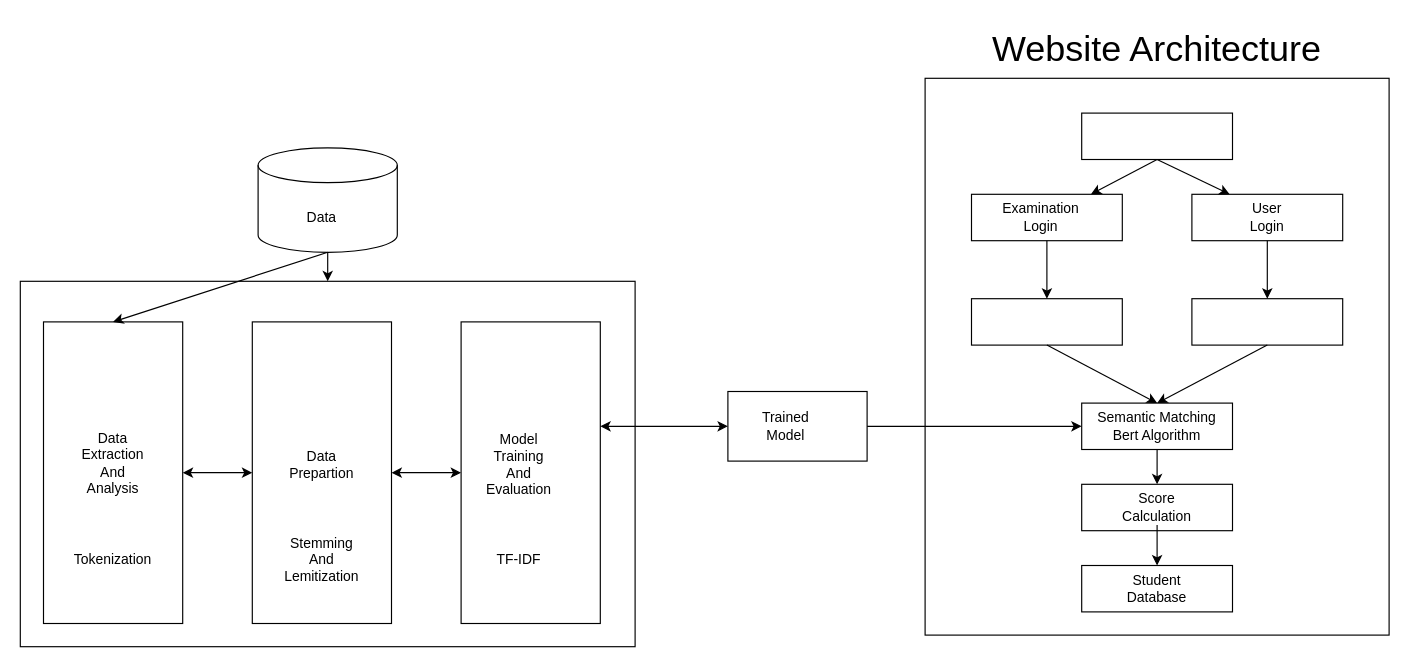
The diagram is 1409 pixels wide and 667 high, and some of its shapes have lost their labels. The centre of each missing label's shape, as x and y in pixels:
Login: [1156,136]
Upload Questions and Answers: [1046,321]
Write Answers and SUbmit: [1267,321]
